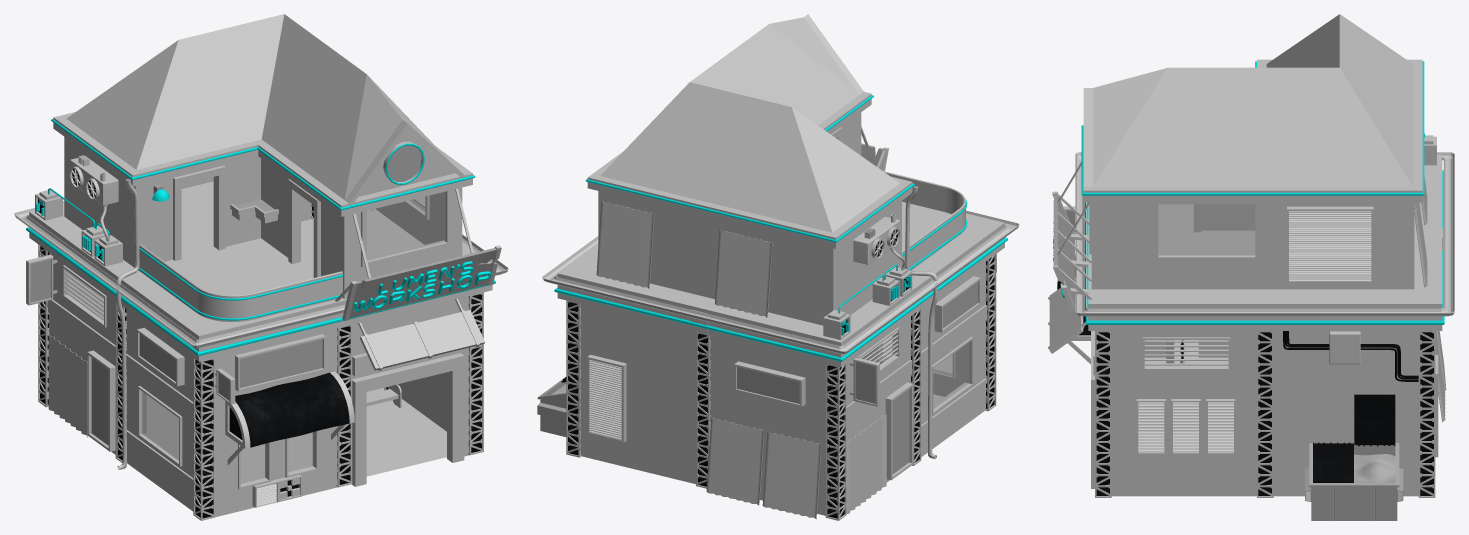
The model's file is Workshop.fbx.
The picture shows the model from 3 angles, left to right: view 1: azimuth 30°, elevation 25°; view 2: azimuth 150°, elevation 25°; view 3: azimuth 270°, elevation 25°; orthographic projection. The views are drawn at different scales.
Visible parts, largest first — view 1: Workshop_InGame; view 2: Workshop_InGame; view 3: Workshop_InGame.
Boxes of the visible parts, bbox=[...] form: Workshop_InGame: bbox=[14, 14, 508, 520]; Workshop_InGame: bbox=[537, 14, 1019, 520]; Workshop_InGame: bbox=[1048, 14, 1454, 520].
Bounding box in the file's own units: 10.59 × 10.64 × 10.05.
